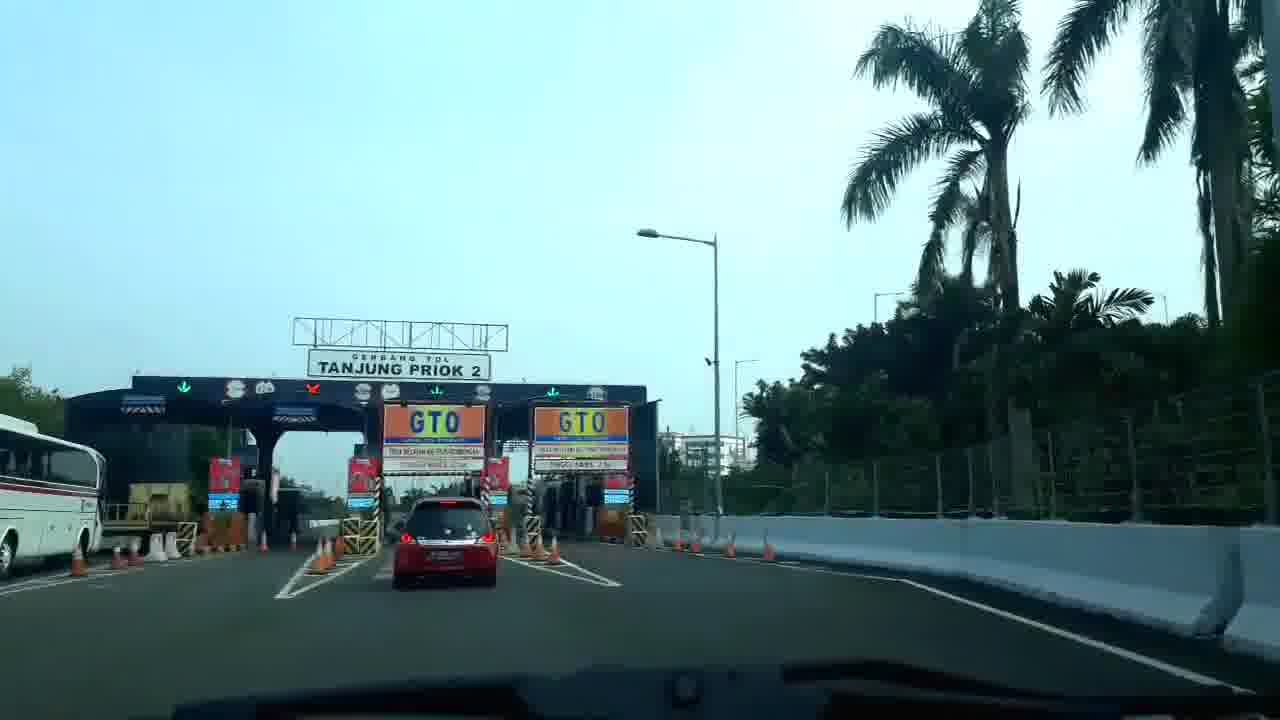plate_positive: (429, 550, 461, 561)
